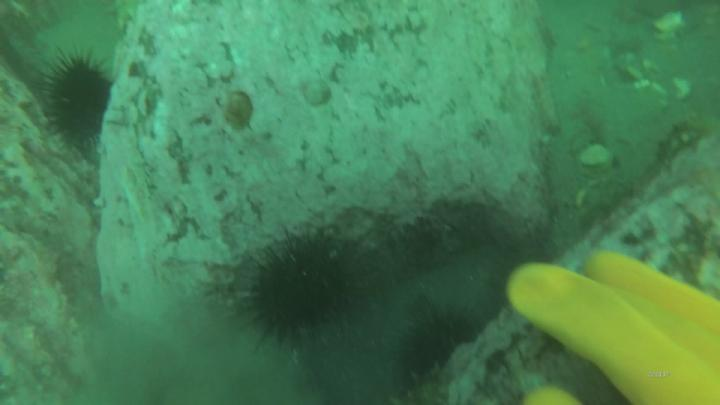echinus: (232, 224, 366, 351), (36, 49, 116, 151), (394, 303, 483, 393)
